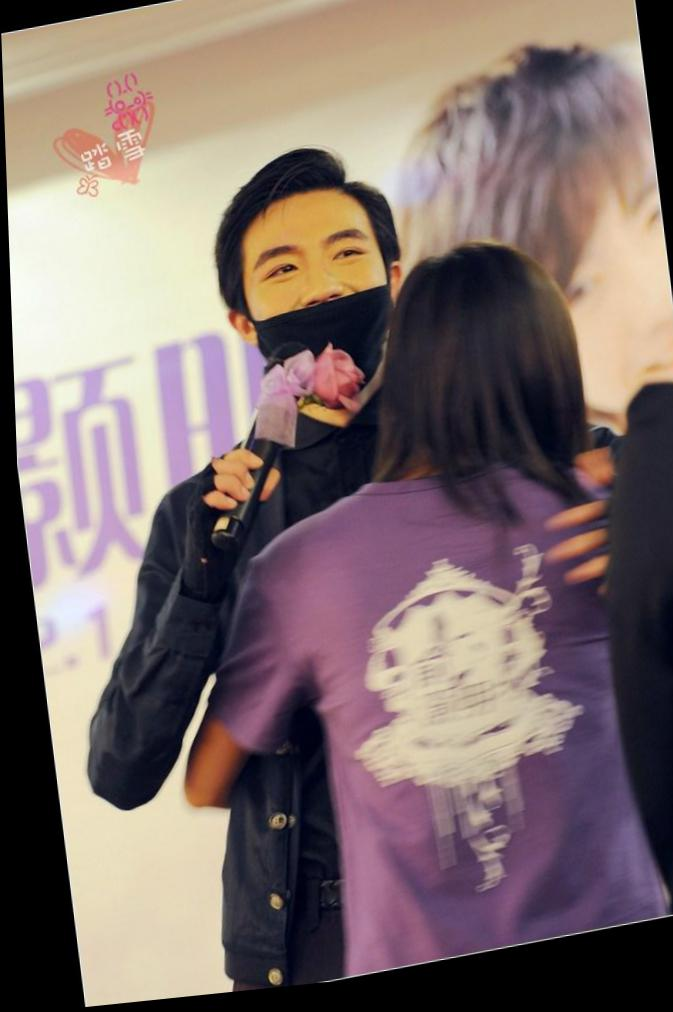WRONG: (237, 221, 396, 391)
